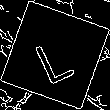L_NW: (30, 25, 80, 85)
